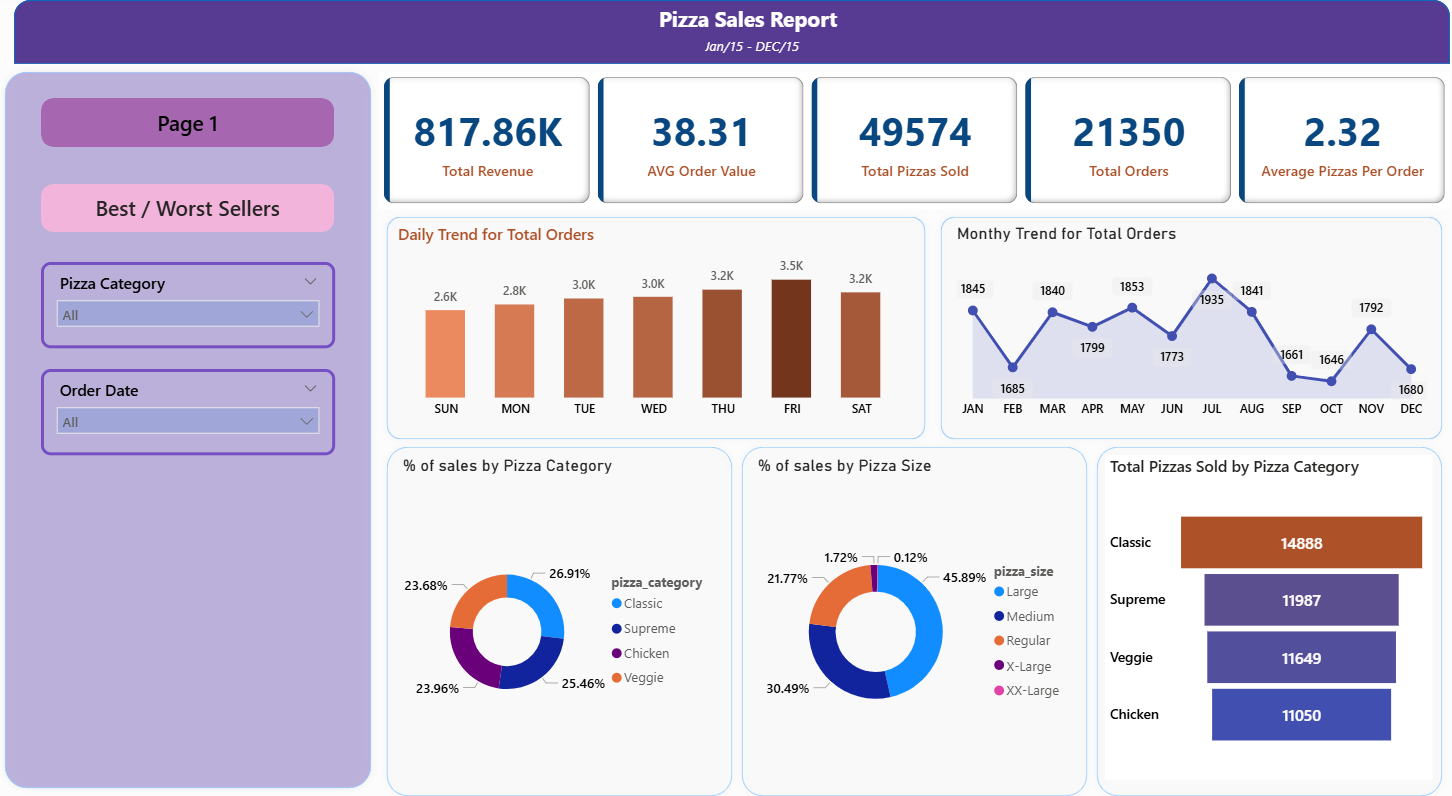

The dashboard page shown, as its layout file describes it:
{"tool":"powerbi","page":{"name":"Page 1","canvas":[1500,820],"ordinal":0},"visuals":[{"type":"cardVisual","fields":{"Data":["project pizza_sales_excel_file.Total Revenue","project pizza_sales_excel_file.AVG Order_Value","project pizza_sales_excel_file.Total Pizzas Sold","project pizza_sales_excel_file.Total Orders","project pizza_sales_excel_file.Average Pizzas Per Order"]},"box":[389.6,73.4,1092.3,139.7],"z":0},{"type":"shape","box":[17.3,0,1464.6,65.3],"z":1000},{"type":"textbox","box":[670.1,0,201.9,38.8],"z":2000},{"type":"textbox","box":[717,32.6,118.3,26.5],"z":3000},{"type":"shape","box":[389.6,213.2,565,242.7],"z":4000},{"type":"columnChart","title":"Daily Trend for Total Orders","fields":{"Y":["project pizza_sales_excel_file.Total Orders"],"Category":["project pizza_sales_excel_file.Order Day"]},"box":[403.9,227.4,532.4,208.1],"z":5000},{"type":"shape","box":[954.6,213.2,527.3,242.7],"z":6000},{"type":"areaChart","title":"Monthy Trend for Total Orders","fields":{"Y":["project pizza_sales_excel_file.Total Orders"],"Category":["project pizza_sales_excel_file.Order Month"]},"box":[974,227.4,489.6,208.1],"z":7000},{"type":"shape","box":[389.6,447.7,368.2,372.3],"z":8000},{"type":"shape","box":[1113.7,447.7,368.2,372.3],"z":9000},{"type":"shape","box":[751.7,447.7,368.2,372.3],"z":10000},{"type":"donutChart","title":"% of sales by Pizza Category","fields":{"Y":["project pizza_sales_excel_file.Total Revenue"],"Category":["project pizza_sales_excel_file.pizza_category"]},"box":[409,464.1,330.4,341.7],"z":11000},{"type":"donutChart","title":"% of sales by Pizza Size","fields":{"Y":["project pizza_sales_excel_file.Total Revenue"],"Category":["project pizza_sales_excel_file.pizza_size"]},"box":[771,464.1,330.4,341.7],"z":12000},{"type":"shape","box":[0,65.3,389.6,746.6],"z":13000},{"type":"slicer","fields":{"Values":["project pizza_sales_excel_file.pizza_category"]},"box":[44.5,266.7,299.8,87.8],"z":14000},{"type":"funnel","title":"Total Pizzas Sold by Pizza Category","fields":{"Category":["project pizza_sales_excel_file.pizza_category"],"Y":["project pizza_sales_excel_file.Total Pizzas Sold"]},"box":[1130,464.1,333.5,331.5],"z":15000},{"type":"slicer","fields":{"Values":["project pizza_sales_excel_file.order_date"]},"box":[44.5,376.1,299.8,87.8],"z":16000},{"type":"pageNavigator","box":[44.9,100,299.9,51],"z":17000},{"type":"pageNavigator","box":[44.9,187.7,299.9,50],"z":18000}]}

Visuals, with their boxes in screenshot pixels (x1, y1, x2, y2), scaled from the page's 1500x820 canvas onto the 1452x796 screenshot:
cardVisual - project pizza_sales_excel_file.Total Revenue x project pizza_sales_excel_file.AVG Order_Value: select_region(377, 71, 1434, 207)
shape: select_region(17, 0, 1434, 63)
textbox: select_region(649, 0, 844, 38)
textbox: select_region(694, 32, 809, 57)
shape: select_region(377, 207, 924, 443)
"Daily Trend for Total Orders" columnChart: select_region(391, 221, 906, 423)
shape: select_region(924, 207, 1434, 443)
"Monthy Trend for Total Orders" areaChart: select_region(943, 221, 1417, 423)
shape: select_region(377, 435, 734, 795)
shape: select_region(1078, 435, 1434, 795)
shape: select_region(728, 435, 1084, 795)
"% of sales by Pizza Category" donutChart: select_region(396, 451, 716, 782)
"% of sales by Pizza Size" donutChart: select_region(746, 451, 1066, 782)
shape: select_region(0, 63, 377, 788)
slicer - project pizza_sales_excel_file.pizza_category: select_region(43, 259, 333, 344)
"Total Pizzas Sold by Pizza Category" funnel: select_region(1094, 451, 1417, 772)
slicer - project pizza_sales_excel_file.order_date: select_region(43, 365, 333, 450)
pageNavigator: select_region(43, 97, 334, 147)
pageNavigator: select_region(43, 182, 334, 231)
